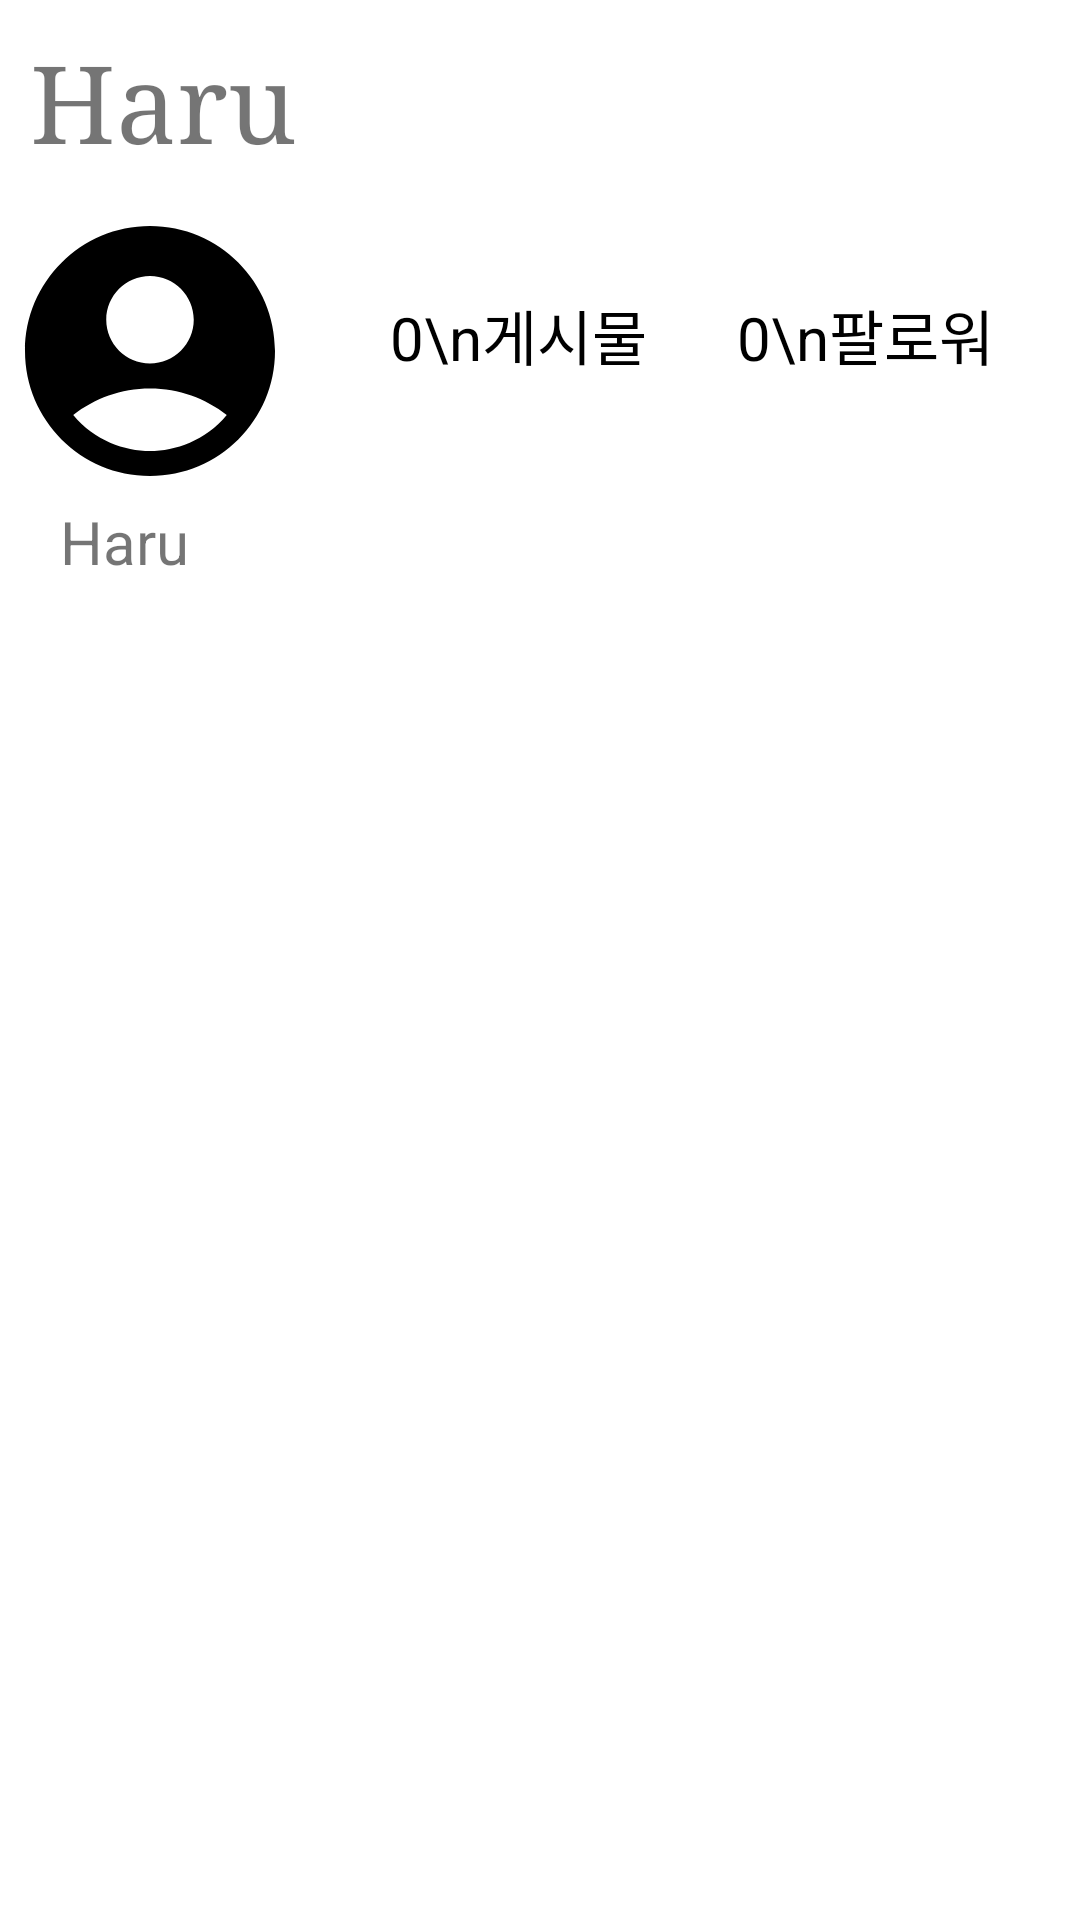

Where icons sit on this 1080×1920 app screen, as (x1=x1, y1=y1, x2=x2, y2=y2):
account: (x1=25, y1=226, x2=275, y2=476)
